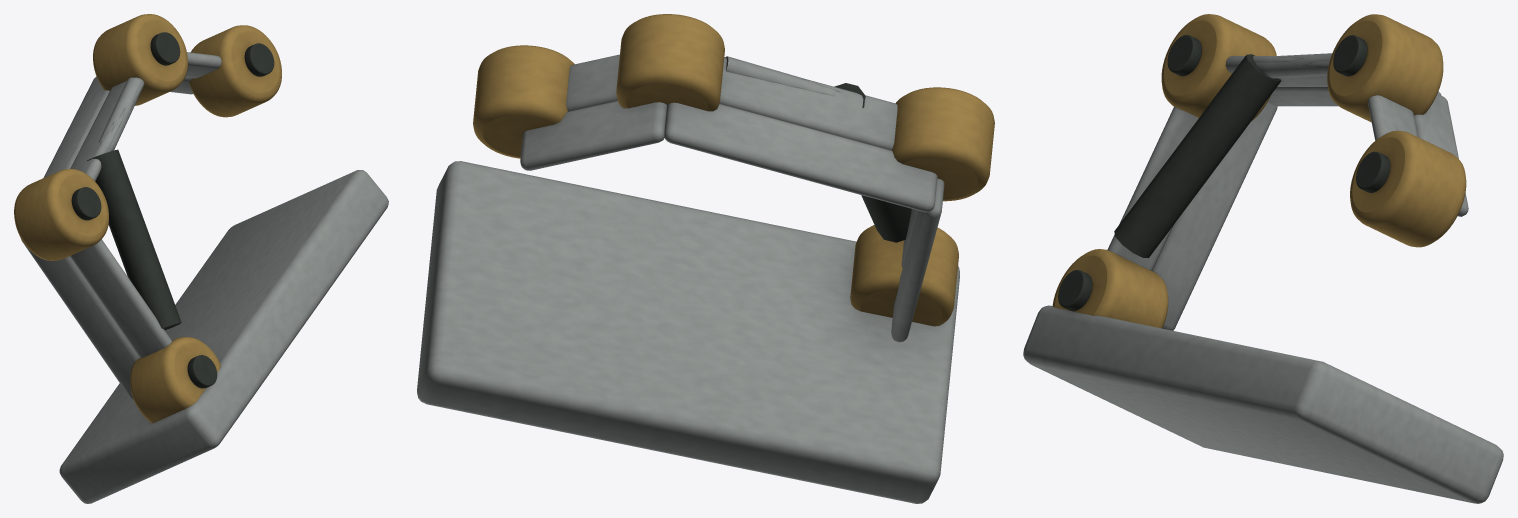
3 views of the same model, side by side, from view 1: azimuth 30°, elevation 25°; view 2: azimuth 150°, elevation 25°; view 3: azimuth 270°, elevation 25° (orthographic). The views are drawn at different scales.
Visible parts, largest first — view 1: Arm installation foot; view 2: Arm installation foot; view 3: Arm installation foot.
Boxes of the visible parts, <box> form: Arm installation foot: <box>14,14,388,503</box>; Arm installation foot: <box>417,14,994,503</box>; Arm installation foot: <box>1023,14,1503,503</box>.
Bounding box in the file's own units: 1.19 × 1.14 × 0.9888.
Materials: 1 (1 with a texture image).
